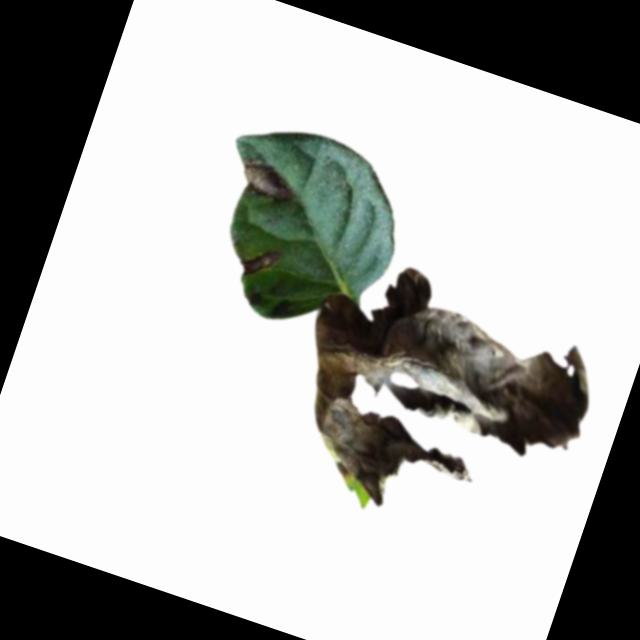Early_blight: (262, 243, 609, 558), (230, 152, 305, 207), (235, 239, 281, 285)
